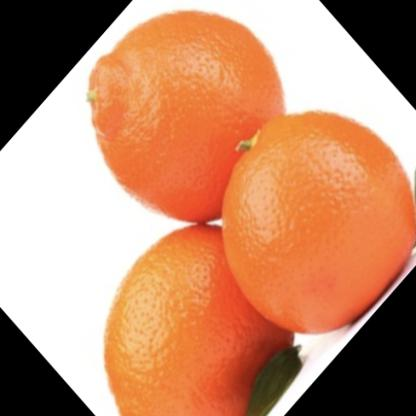fresh: (86, 11, 416, 416)
